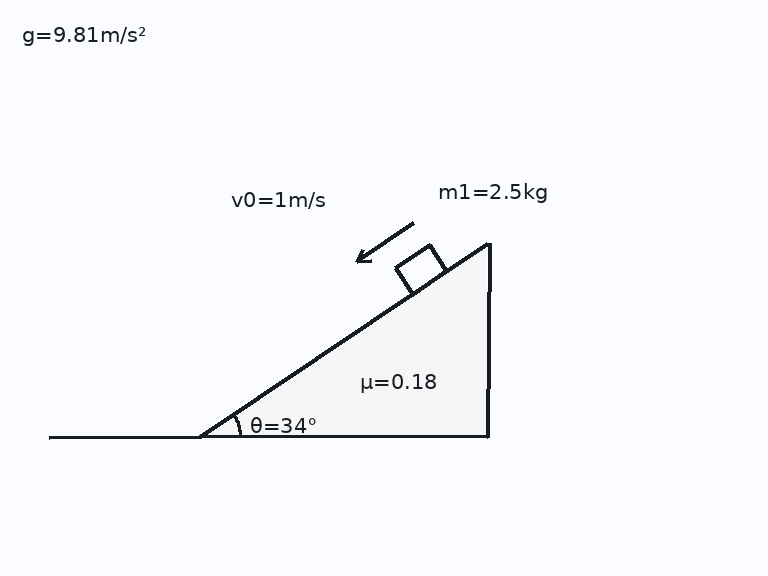block: (393, 243, 448, 296)
ramp: (198, 242, 489, 439)
